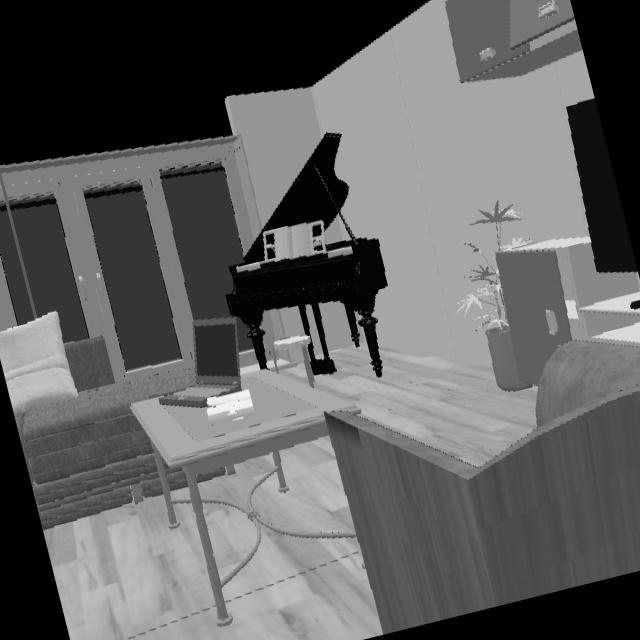book: (207, 389, 253, 415)
cabinet: (495, 237, 640, 387), (446, 0, 583, 84)
laptop: (159, 318, 242, 408)
monitor: (566, 97, 638, 276)
pillow: (0, 313, 78, 433)
sofa: (327, 339, 640, 634), (15, 337, 197, 531)
table: (129, 369, 361, 628)
